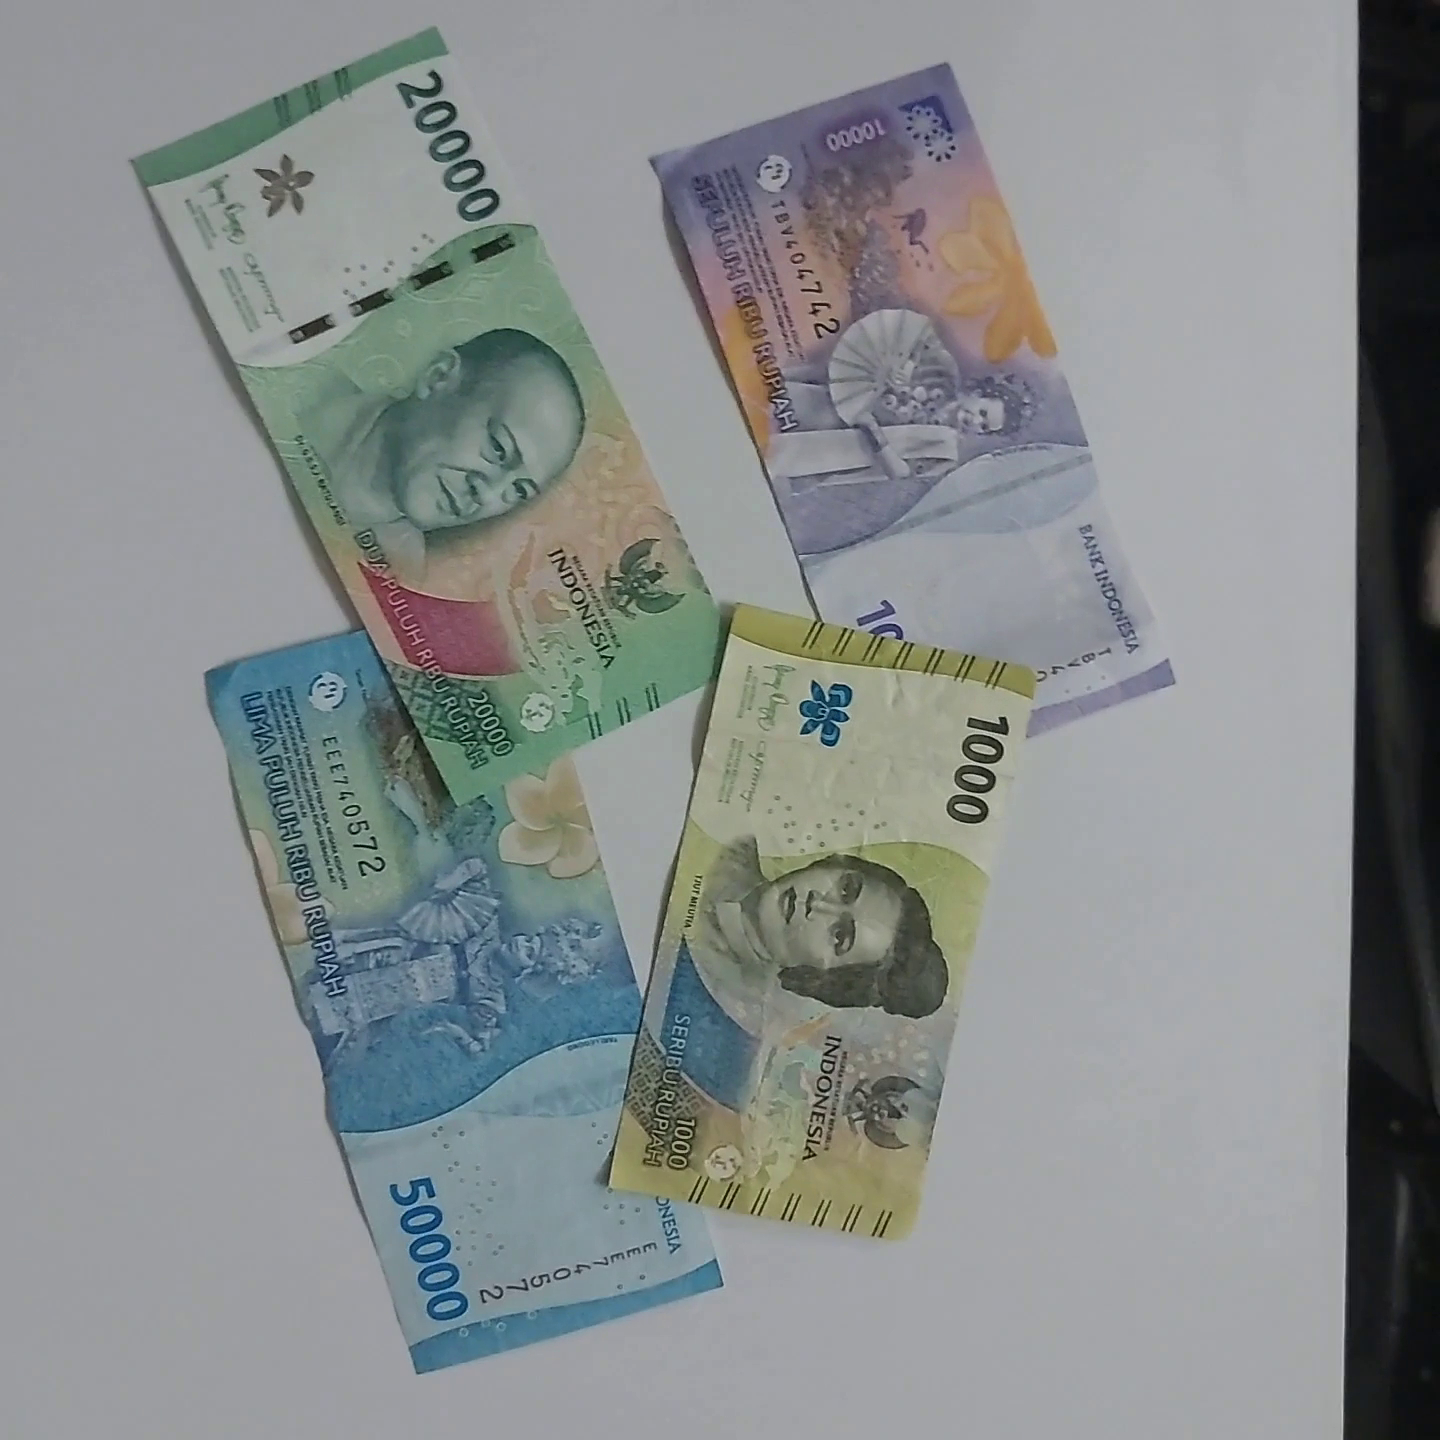10k: (642, 37, 1208, 798)
1k: (666, 558, 1017, 1255)
20k: (94, 42, 727, 770)
50k: (198, 574, 733, 1375)
